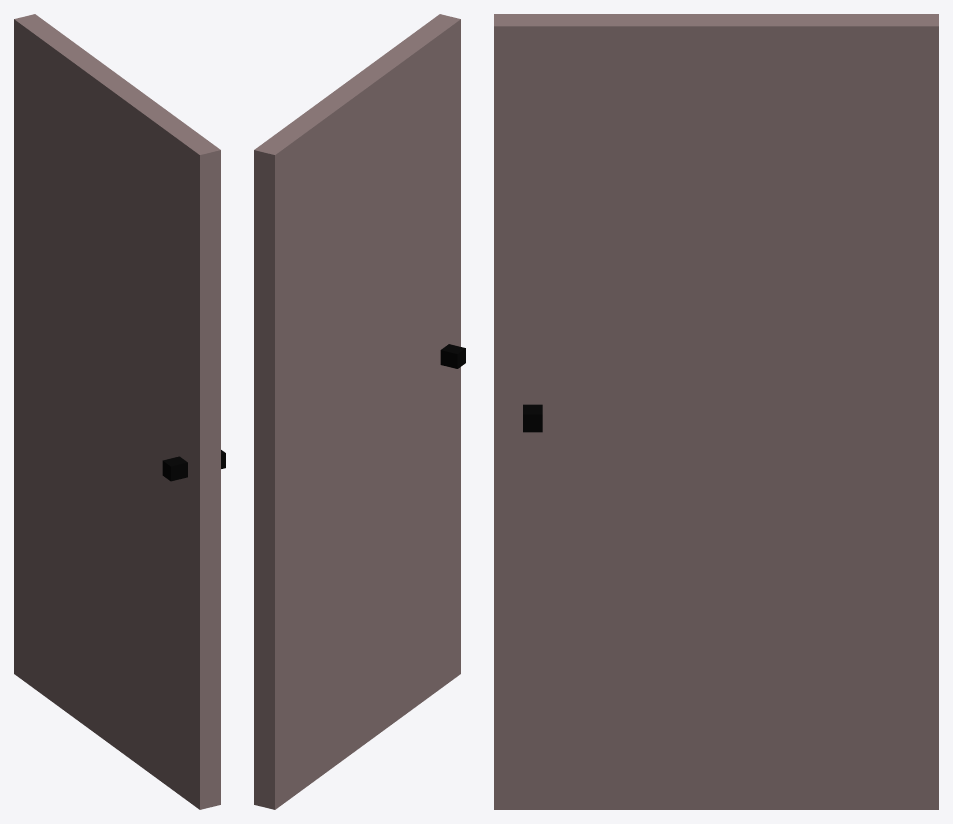
File: Door.fbx
3 renders of one model, left to right at view 1: azimuth 30°, elevation 25°; view 2: azimuth 150°, elevation 25°; view 3: azimuth 270°, elevation 25°, orthographic. The views are drawn at different scales.
Visible parts, largest first — view 1: Door.001; view 2: Door.001; view 3: Door.001.
Boxes of the visible parts, x1,y1,x2,y2 form: Door.001: (14,14,225,809); Door.001: (254,14,465,809); Door.001: (494,14,938,809).
Size of the model in its own units: 15.06 by 171 by 88.
